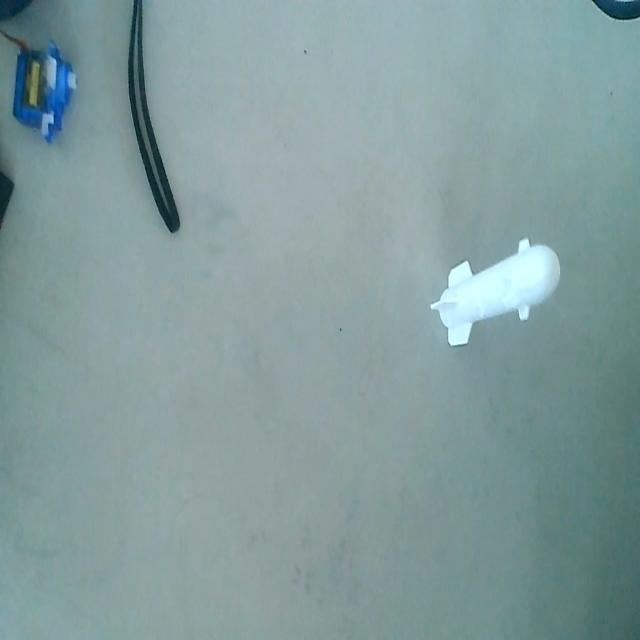Rocket: (433, 232, 561, 358)
